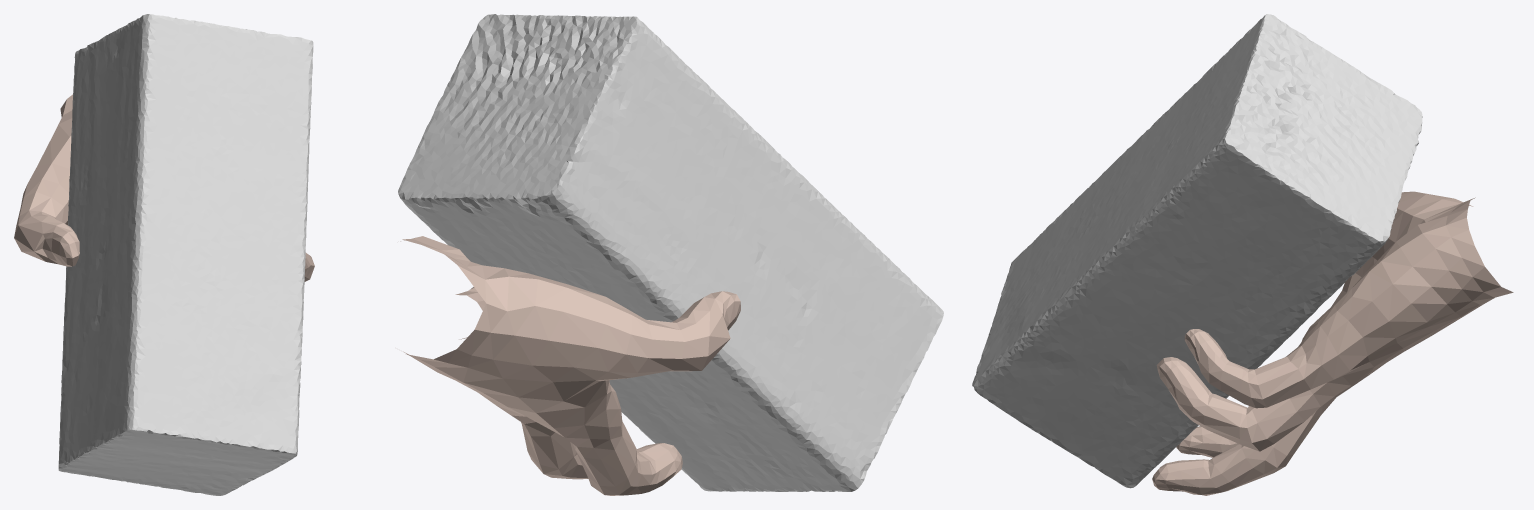
The picture shows the model from 3 angles, left to right: view 1: azimuth 30°, elevation 25°; view 2: azimuth 150°, elevation 25°; view 3: azimuth 270°, elevation 25°; orthographic projection. The views are drawn at different scales.
Visible parts, largest first — view 1: world, mano; view 2: world, mano; view 3: world, mano.
Boxes of the visible parts, bbox=[...] form: world: bbox=[58, 14, 313, 495]; mano: bbox=[14, 94, 314, 281]; world: bbox=[398, 14, 943, 491]; mano: bbox=[400, 236, 740, 495]; world: bbox=[972, 14, 1422, 488]; mano: bbox=[1152, 191, 1513, 495].
Bounding box in the file's own units: 0.2676 × 0.3815 × 0.4022.
